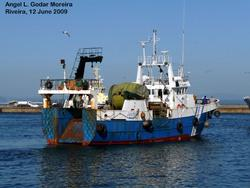otherboat: (37, 10, 220, 147)
